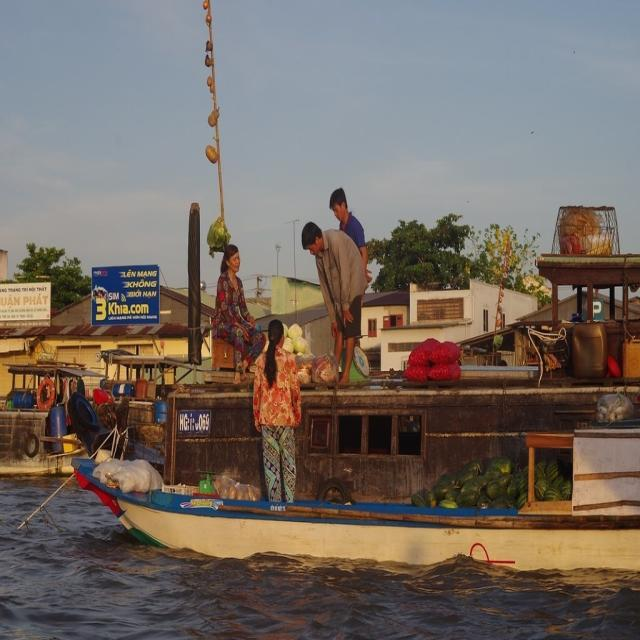boat: (133, 217, 640, 522), (68, 456, 640, 585), (3, 399, 106, 484)
